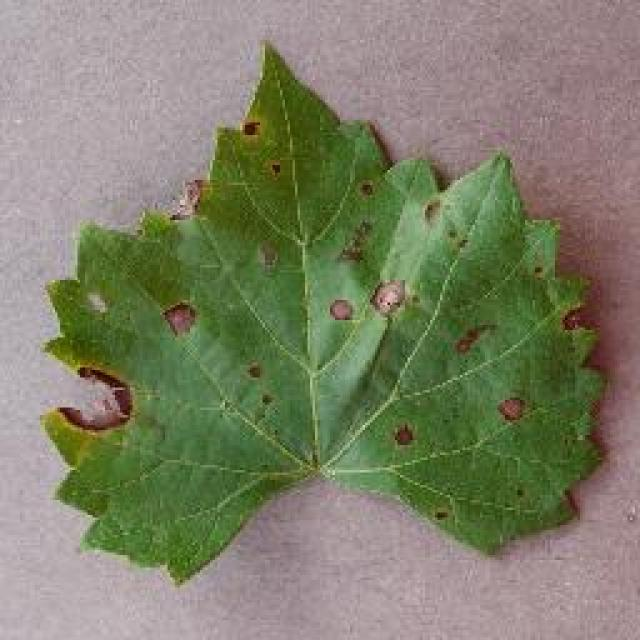Grape___Black_rot: (30, 37, 609, 594)
